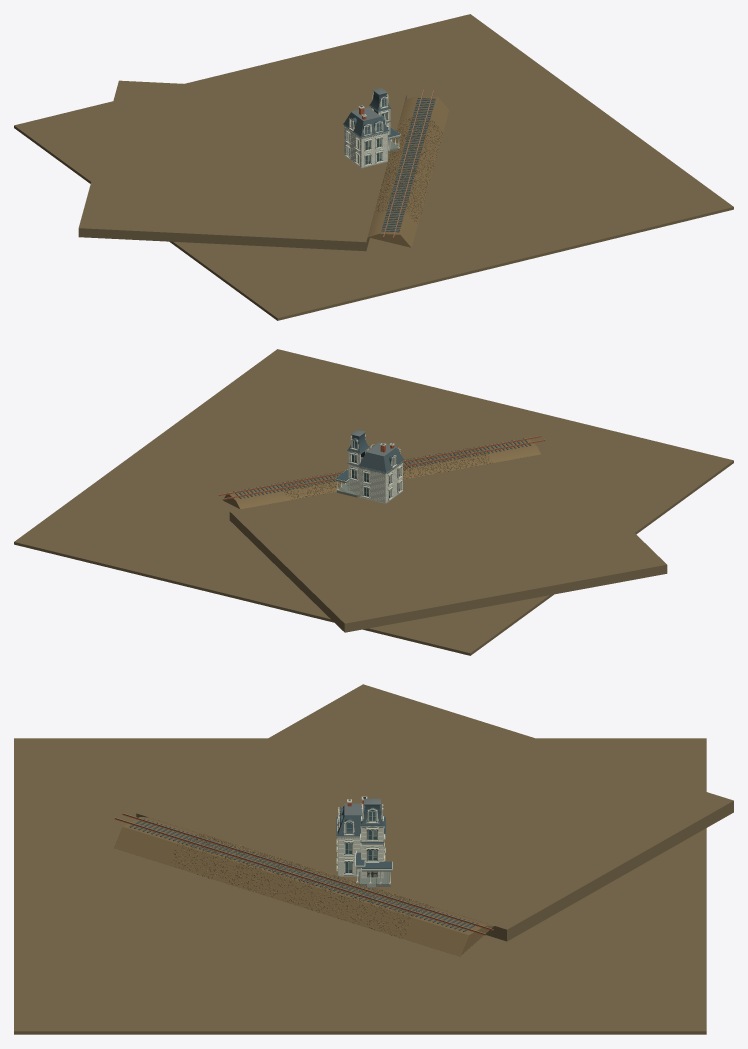
Rendered from railroad-base-gpt-6-1-sol.glb.
3 views of the same model, one above another, from view 1: azimuth 30°, elevation 25°; view 2: azimuth 150°, elevation 25°; view 3: azimuth 270°, elevation 25° (orthographic). The views are drawn at different scales.
Parts seen in each view (by area): view 1: object 12, object 10, object 3; view 2: object 12, object 10, object 3, object 11, object 4; view 3: object 12, object 10, object 3, object 11.
Boxes of the visible parts, left/top/right/bottom form: object 12: left=14, top=14, right=733, bottom=320; object 10: left=368, top=96, right=449, bottom=247; object 3: left=343, top=88, right=426, bottom=161; object 12: left=14, top=349, right=733, bottom=655; object 10: left=223, top=437, right=540, bottom=509; object 3: left=309, top=429, right=404, bottom=489; object 11: left=219, top=436, right=545, bottom=499; object 4: left=359, top=448, right=403, bottom=471; object 12: left=14, top=684, right=733, bottom=1034; object 10: left=114, top=817, right=494, bottom=956; object 3: left=307, top=798, right=392, bottom=904; object 11: left=115, top=813, right=493, bottom=935.
Size of the model in its own units: 103 by 13.7 by 93.54.
